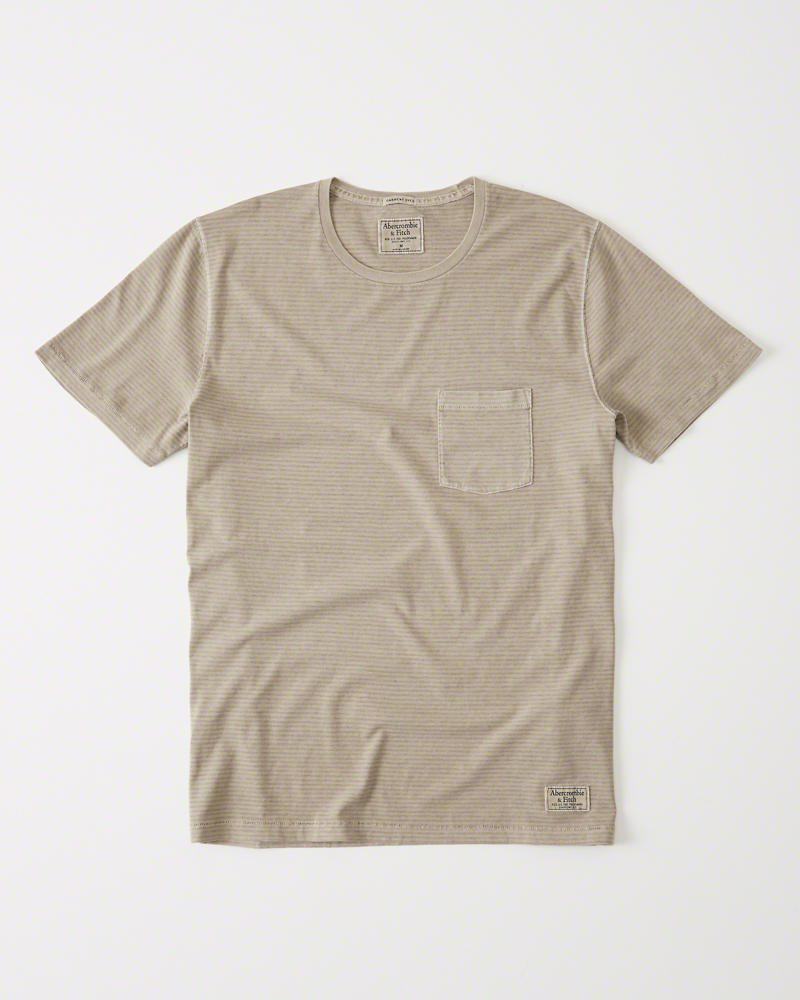teeshirt: (26, 165, 767, 875)
